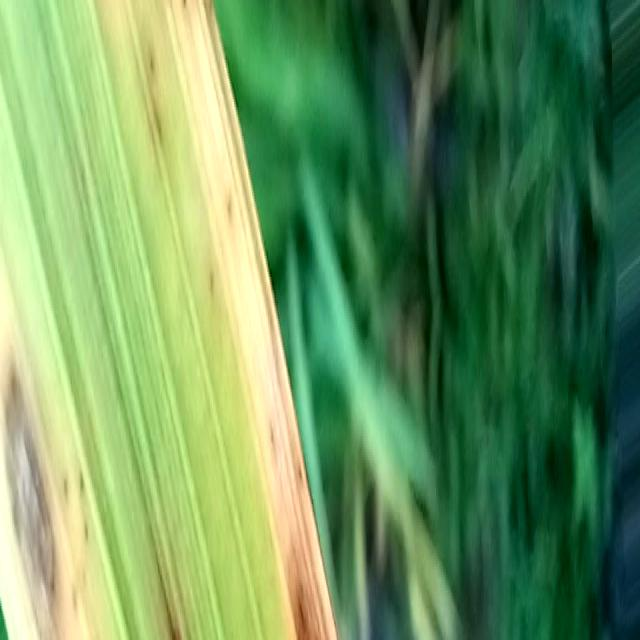LEAF BLAST: (4, 356, 56, 640), (288, 536, 333, 640)
